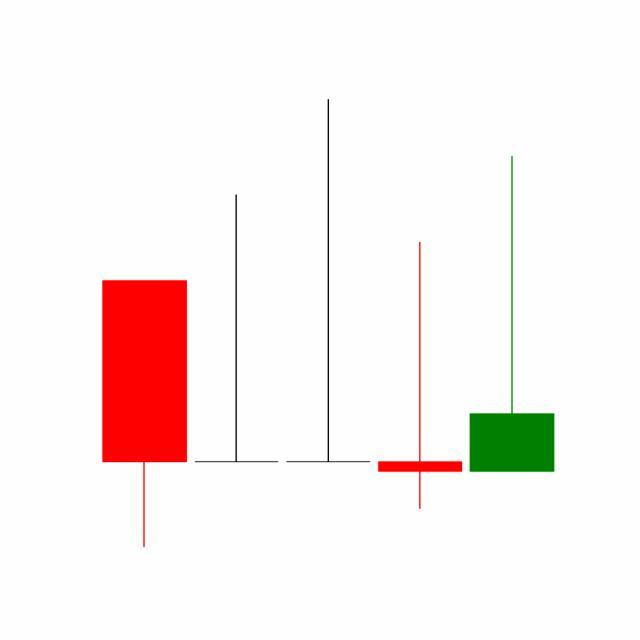Spinning Top: (374, 240, 468, 514)
